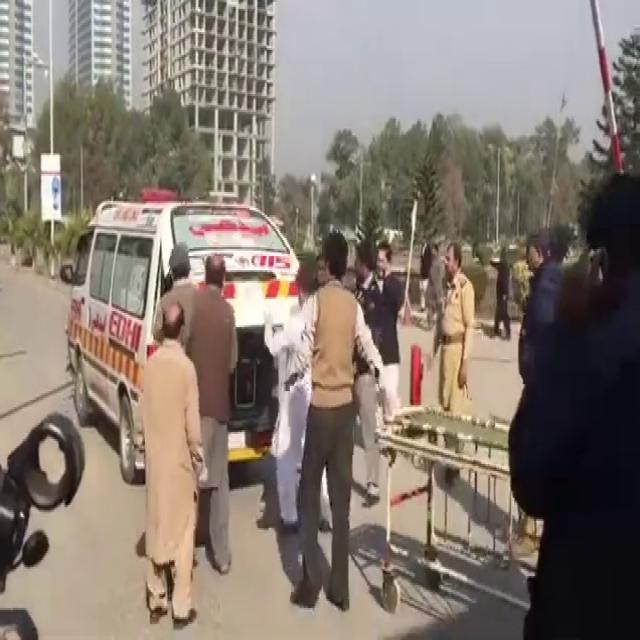ambulance: (58, 204, 306, 460)
